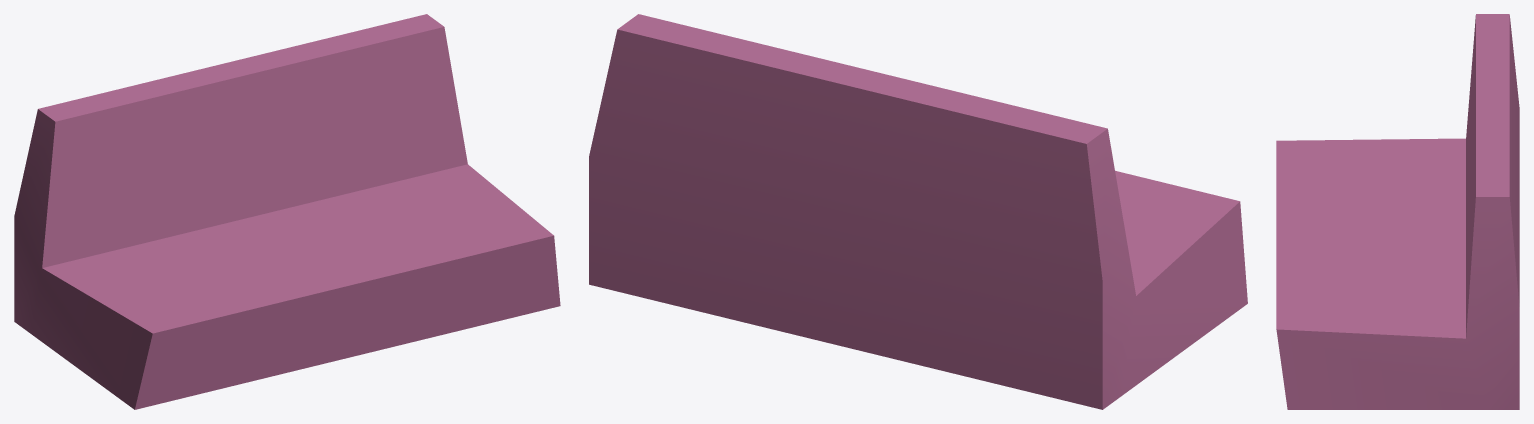
Rendered from coach.fbx.
The picture shows the model from 3 angles, left to right: view 1: azimuth 30°, elevation 25°; view 2: azimuth 150°, elevation 25°; view 3: azimuth 270°, elevation 25°; orthographic projection. The views are drawn at different scales.
Parts seen in each view (by area): view 1: pCube1; view 2: pCube1; view 3: pCube1.
Part boxes in pixels (box(x1,y1,x2,y2)): pCube1: box(14, 14, 560, 409); pCube1: box(589, 14, 1247, 409); pCube1: box(1276, 14, 1519, 409).
Bounding box in the file's own units: 15.19 × 7.23 × 7.8.
